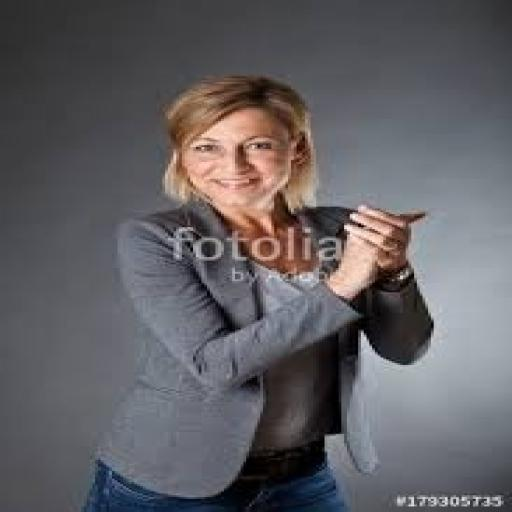clapping: (78, 73, 436, 510)
